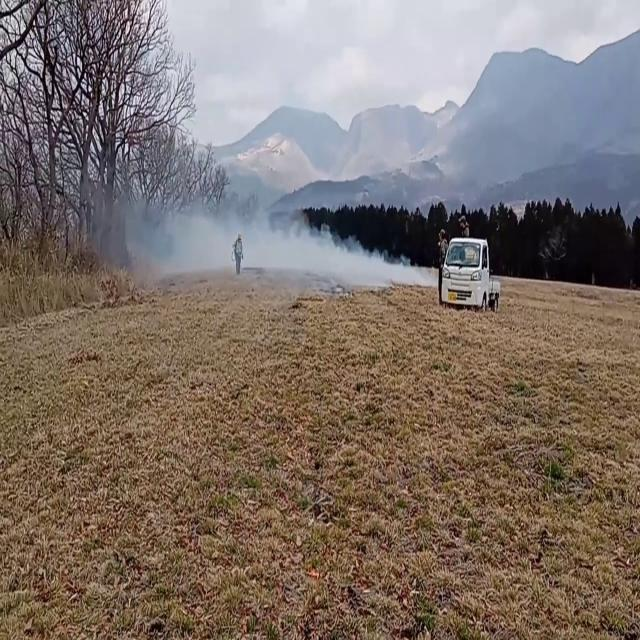Smoke: (103, 164, 401, 290)
